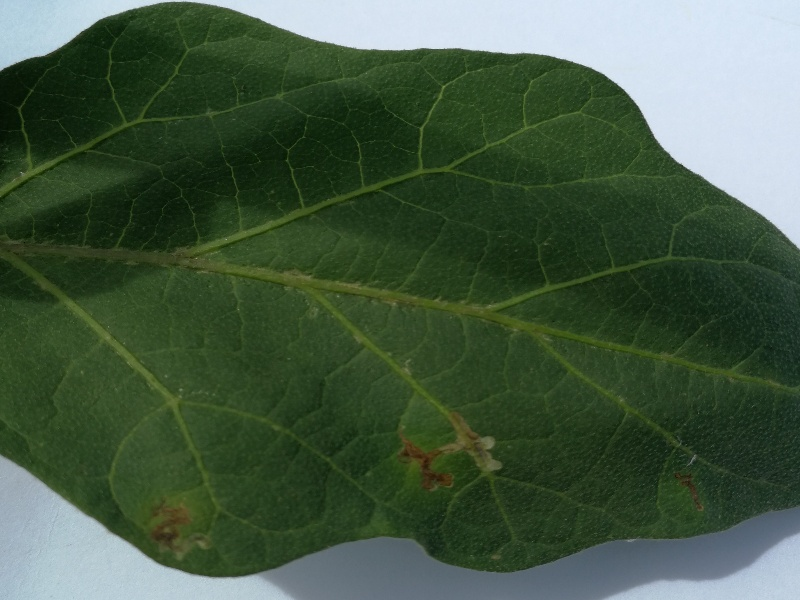leafminer: (394, 411, 506, 501), (143, 500, 212, 569)
